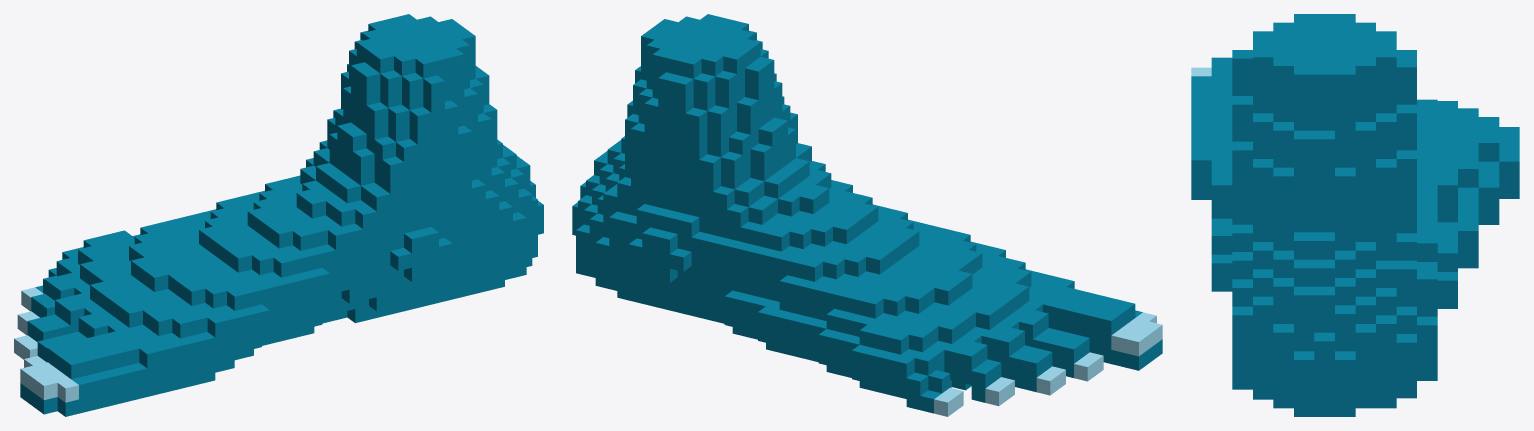
Rendered from Avatar.fbx.
3 renders of one model, left to right at view 1: azimuth 30°, elevation 25°; view 2: azimuth 150°, elevation 25°; view 3: azimuth 270°, elevation 25°, orthographic. The views are drawn at different scales.
Parts seen in each view (by area): view 1: Untitled; view 2: Untitled; view 3: Untitled.
Part boxes in pixels (x1,y1,x2,y2): Untitled: [14, 14, 543, 416]; Untitled: [572, 14, 1162, 416]; Untitled: [1191, 14, 1519, 416].
Bounding box in the file's own units: 390 × 170 × 160.
